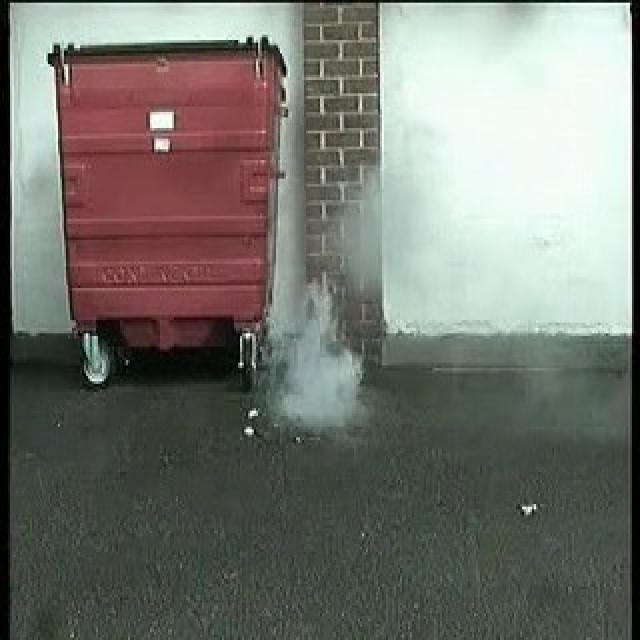Smoke: (271, 282, 364, 430)
